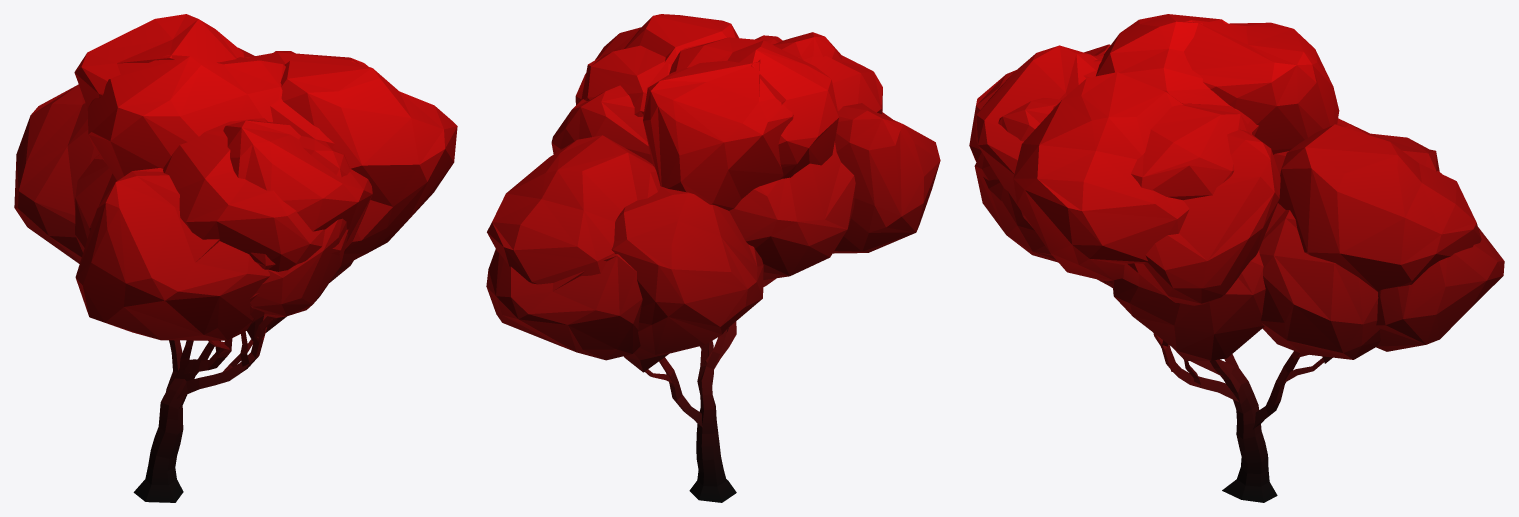
The model's file is TreeMaple04.fbx.
3 renders of one model, left to right at view 1: azimuth 30°, elevation 25°; view 2: azimuth 150°, elevation 25°; view 3: azimuth 270°, elevation 25°, orthographic. The views are drawn at different scales.
Visible parts, largest first — view 1: TreeMaple04_LOD0; view 2: TreeMaple04_LOD0; view 3: TreeMaple04_LOD0.
Boxes of the visible parts, box(x1,y1,x2,y2) form: TreeMaple04_LOD0: box(14, 14, 457, 502); TreeMaple04_LOD0: box(486, 14, 940, 502); TreeMaple04_LOD0: box(969, 14, 1504, 502).
Size of what is drawn, in the model's own units: 537 by 653 by 677.
